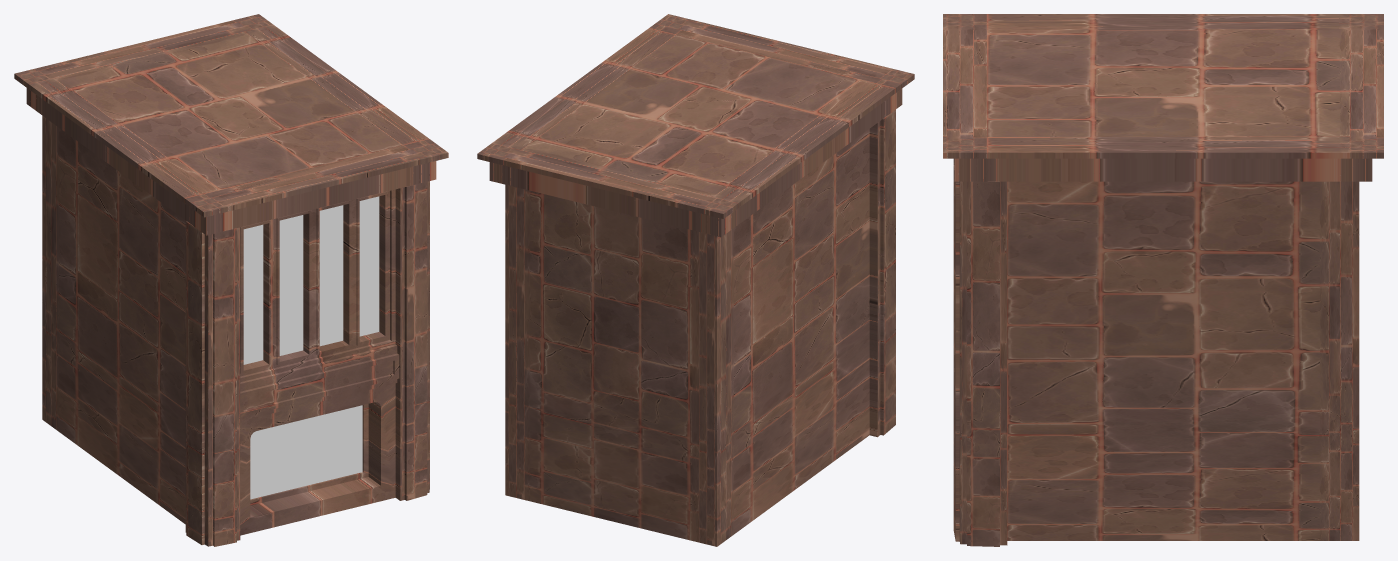
3 views of the same model, side by side, from view 1: azimuth 30°, elevation 25°; view 2: azimuth 150°, elevation 25°; view 3: azimuth 270°, elevation 25° (orthographic). The views are drawn at different scales.
Parts seen in each view (by area): view 1: Cube.018; view 2: Cube.018; view 3: Cube.018.
Part boxes in pixels (box(x1,y1,x2,y2)): Cube.018: box(14, 14, 448, 546); Cube.018: box(477, 14, 914, 546); Cube.018: box(943, 14, 1383, 546).
Size of the model in its own units: 5.47 by 7.32 by 7.35.
2 materials, 1 textured.
